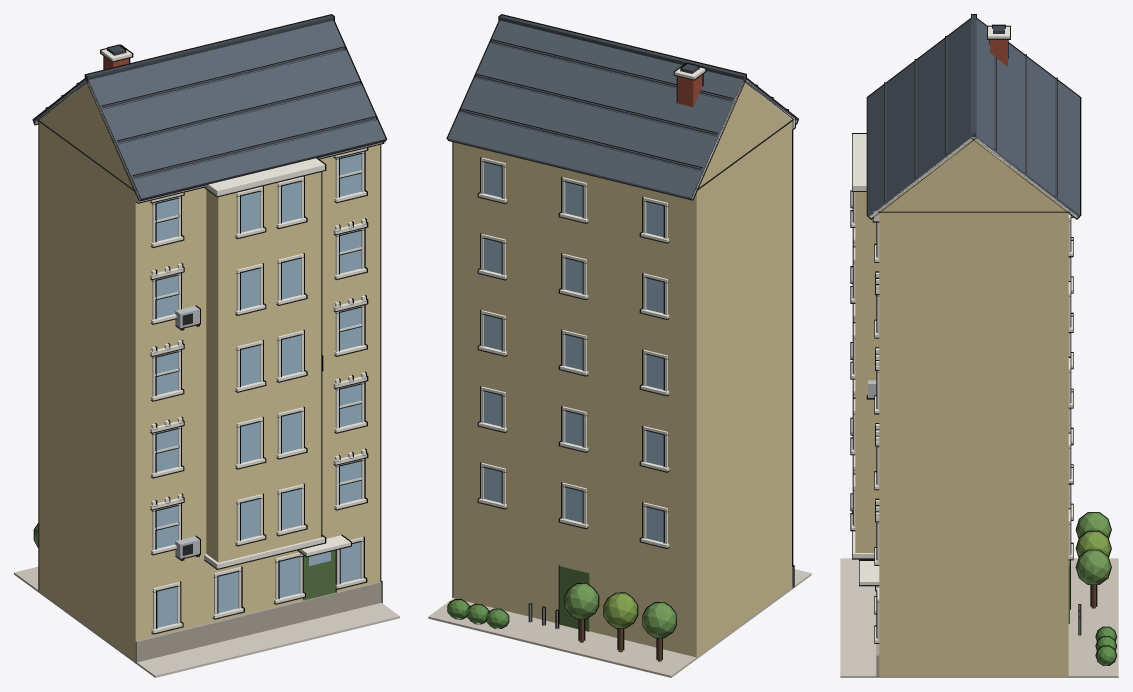
File: Blok_duz_6k_4.fbx
The picture shows the model from 3 angles, left to right: view 1: azimuth 30°, elevation 25°; view 2: azimuth 150°, elevation 25°; view 3: azimuth 270°, elevation 25°; orthographic projection.
Visible parts, largest first — view 1: Blok_duz_6k_4; view 2: Blok_duz_6k_4; view 3: Blok_duz_6k_4.
Part boxes in pixels (x1,y1,x2,y2): Blok_duz_6k_4: (14, 14, 399, 677); Blok_duz_6k_4: (428, 14, 811, 677); Blok_duz_6k_4: (840, 14, 1118, 677).
Bounding box in the file's own units: 10.14 × 21.89 × 10.
